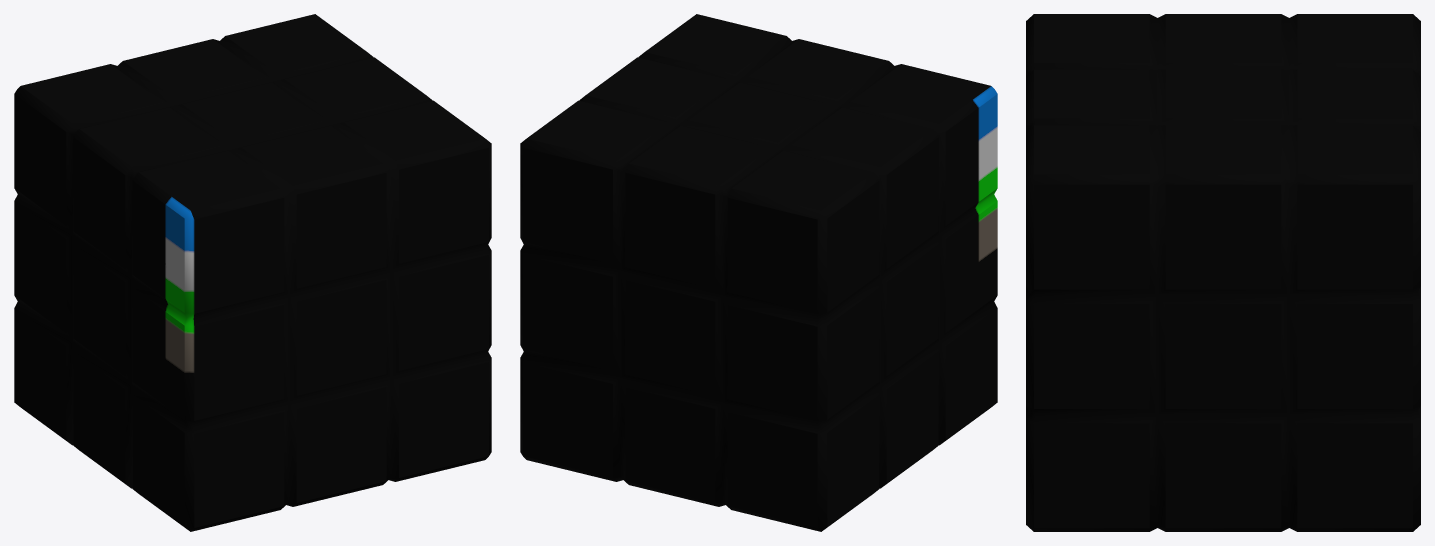
Rendered from Fancy_Cube.fbx.
The picture shows the model from 3 angles, left to right: view 1: azimuth 30°, elevation 25°; view 2: azimuth 150°, elevation 25°; view 3: azimuth 270°, elevation 25°; orthographic projection. The views are drawn at different scales.
Parts seen in each view (by area): view 1: Amusing Cube_PACK; view 2: Amusing Cube_PACK; view 3: Amusing Cube_PACK.
Boxes of the visible parts, x1,y1,x2,y2 form: Amusing Cube_PACK: (14,14,491,531); Amusing Cube_PACK: (520,14,997,531); Amusing Cube_PACK: (1026,14,1420,531).
Size of the model in its own units: 5 by 5 by 5.
1 material, 1 textured.
